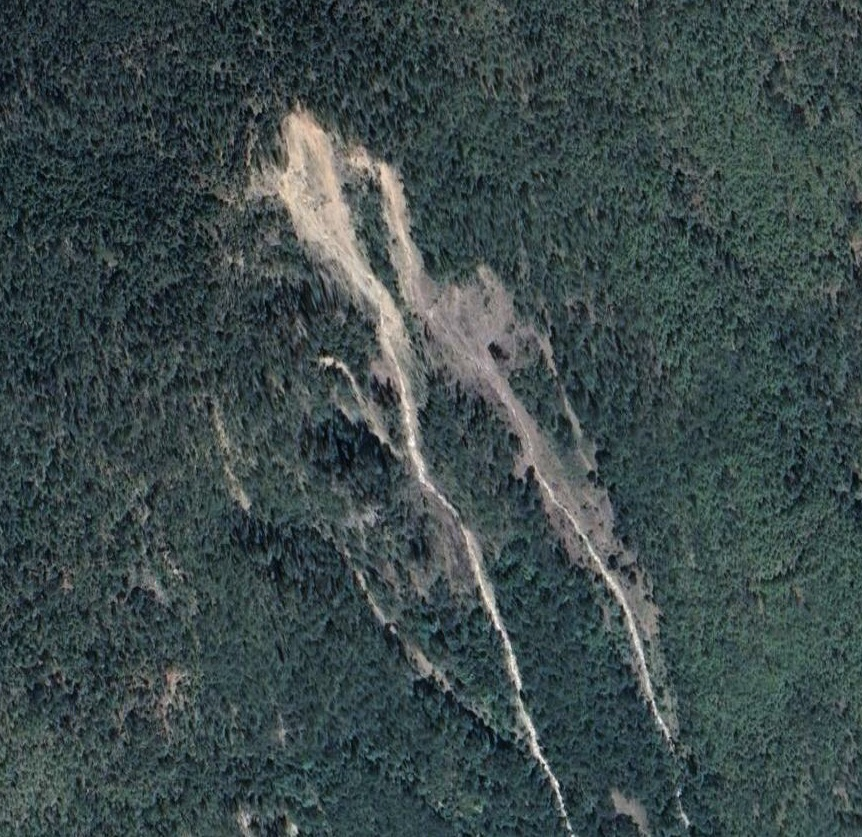slope: (247, 91, 697, 836)
